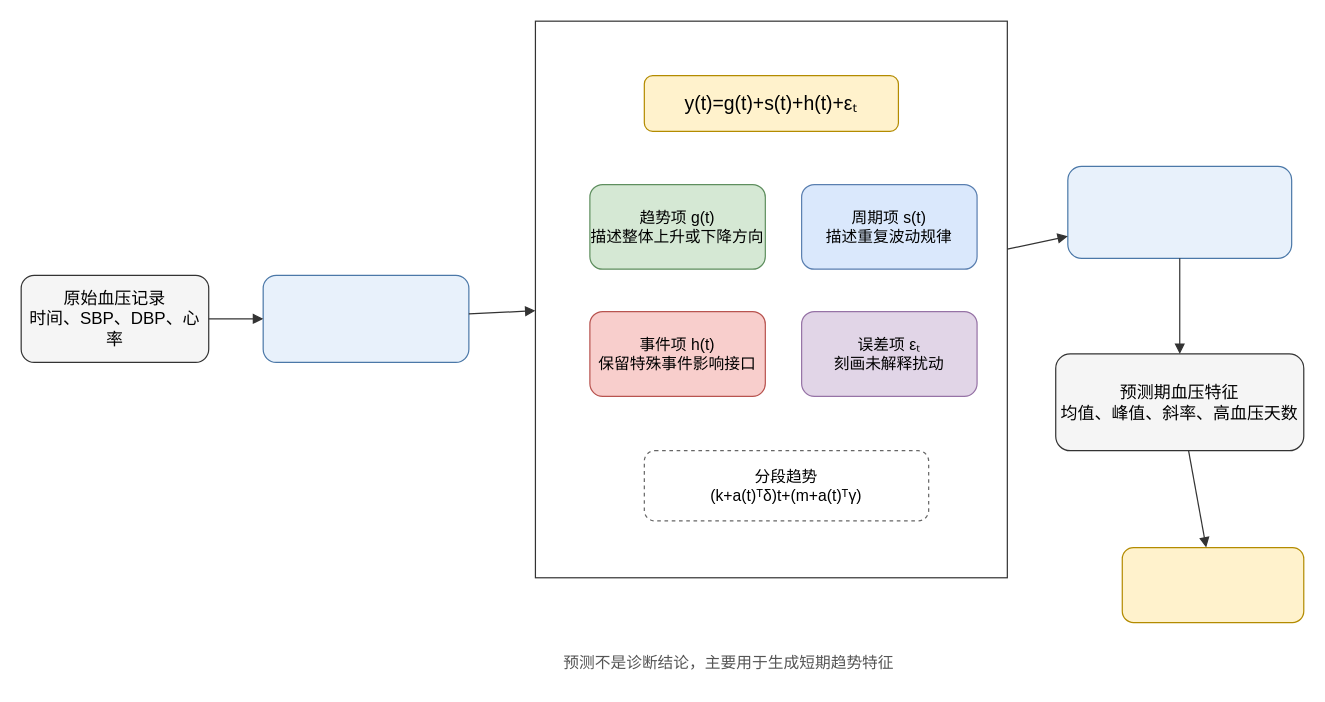
Some shapes in this 1325 by 702 pixel diagram are drawn without their labels. Each missing label, with the box of its shape:
Prophet 加性模型: (534, 20, 1007, 578)
未来血压趋势预测 ŜBPₜ₊ₖ、D̂BPₜ₊ₖ: (1067, 165, 1292, 258)
自然日聚合 日均 SBP / DBP 序列: (262, 274, 469, 362)
输入 LightGBM 风险分类模型: (1121, 546, 1304, 623)
